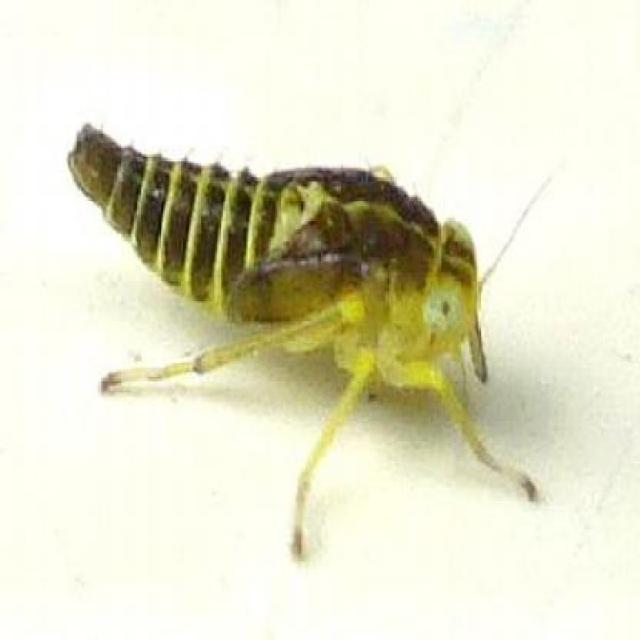green-leafhopper: (64, 118, 498, 485)
